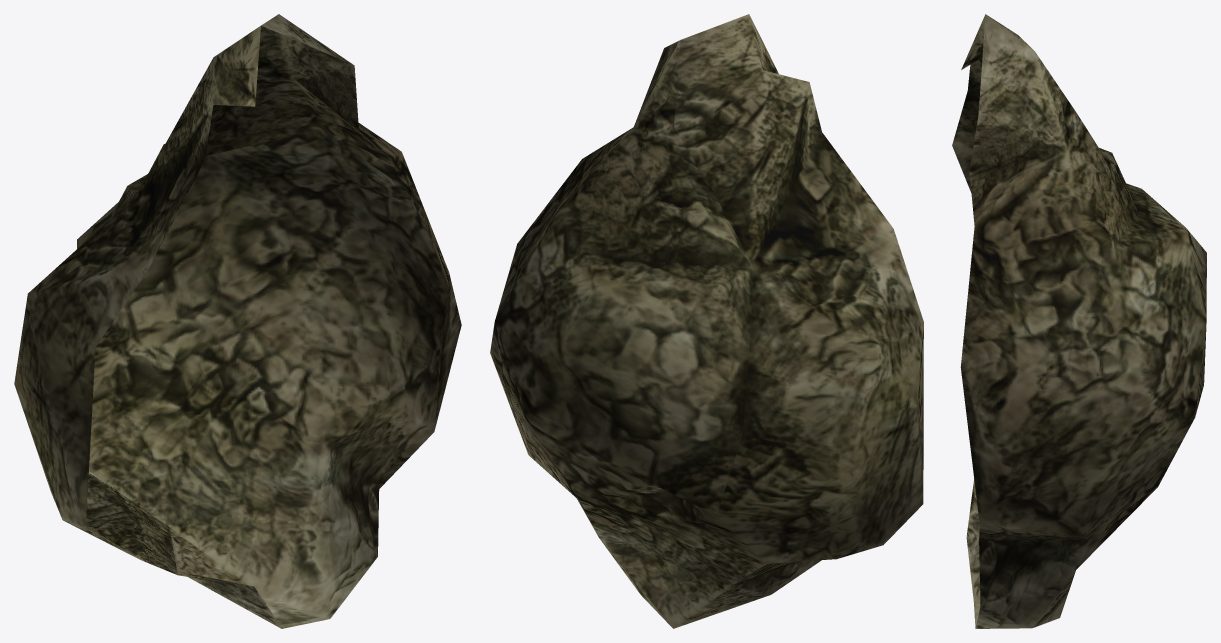
Rendered from MEP_Rock_01_d.fbx.
3 views of the same model, side by side, from view 1: azimuth 30°, elevation 25°; view 2: azimuth 150°, elevation 25°; view 3: azimuth 270°, elevation 25° (orthographic). The views are drawn at different scales.
Visible parts, largest first — view 1: MEP_Rock_01_d; view 2: MEP_Rock_01_d; view 3: MEP_Rock_01_d.
Boxes of the visible parts, <box> form: MEP_Rock_01_d: <box>14,14,461,628</box>; MEP_Rock_01_d: <box>490,14,923,628</box>; MEP_Rock_01_d: <box>952,14,1206,628</box>.
Bounding box in the file's own units: 18.31 × 26.19 × 10.33.
